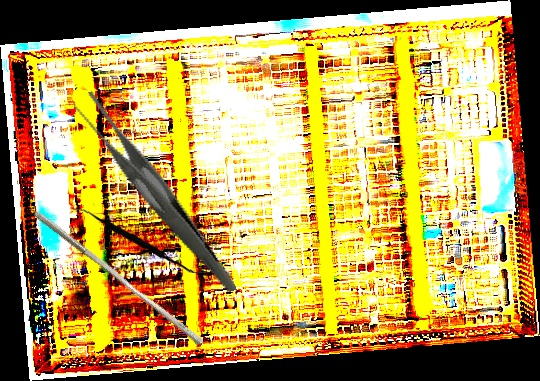Dressing Forceps: (71, 67, 237, 321)
Pusher: (26, 208, 211, 348)
Spatula Surgical: (72, 199, 206, 282)
